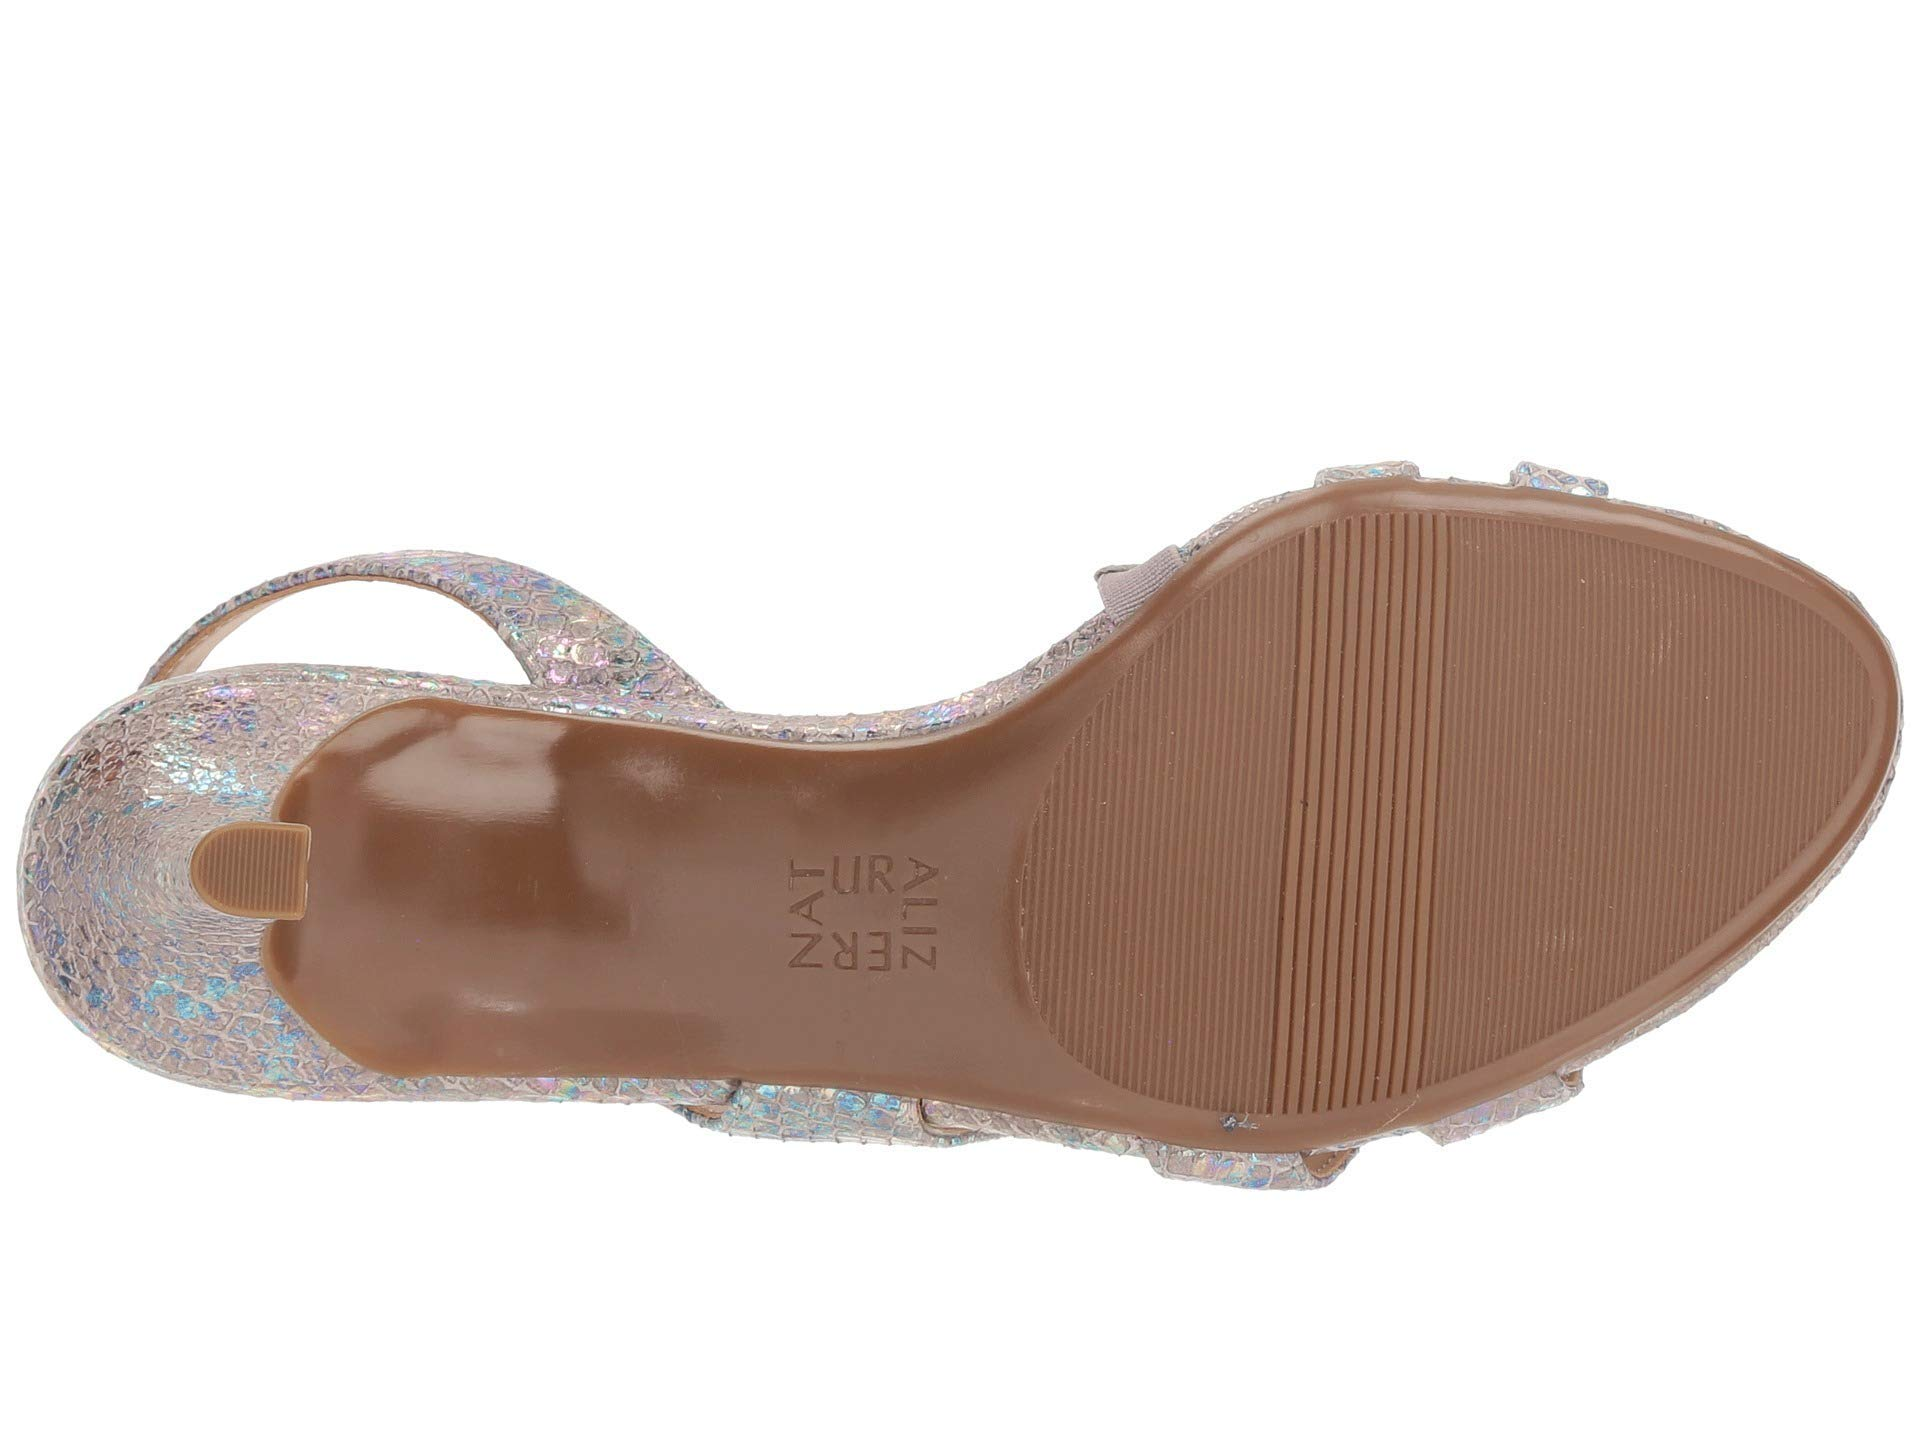exclude: (358, 476, 980, 1189)
line: (1516, 576, 1761, 827), (1324, 517, 1420, 1092), (204, 841, 293, 885)
